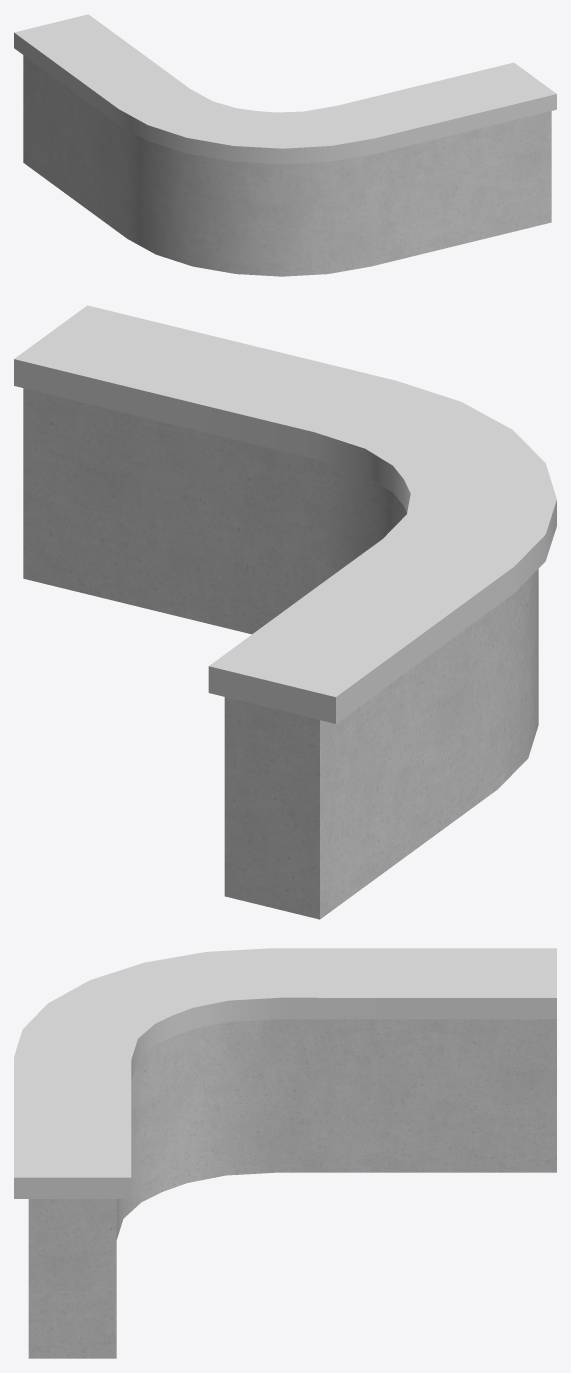
Rendered from MB_Parapet_A_Angle_02.fbx.
The picture shows the model from 3 angles, top to bottom: view 1: azimuth 30°, elevation 25°; view 2: azimuth 150°, elevation 25°; view 3: azimuth 270°, elevation 25°; orthographic projection. The views are drawn at different scales.
Visible parts, largest first — view 1: MB_Parapet_Angle_A_02_LOD0; view 2: MB_Parapet_Angle_A_02_LOD0; view 3: MB_Parapet_Angle_A_02_LOD0.
Boxes of the visible parts, x1,y1,x2,y2 form: MB_Parapet_Angle_A_02_LOD0: [14, 14, 556, 276]; MB_Parapet_Angle_A_02_LOD0: [14, 305, 556, 919]; MB_Parapet_Angle_A_02_LOD0: [14, 948, 556, 1358].
Size of what is drawn, in the model's own units: 308 by 113 by 308.
